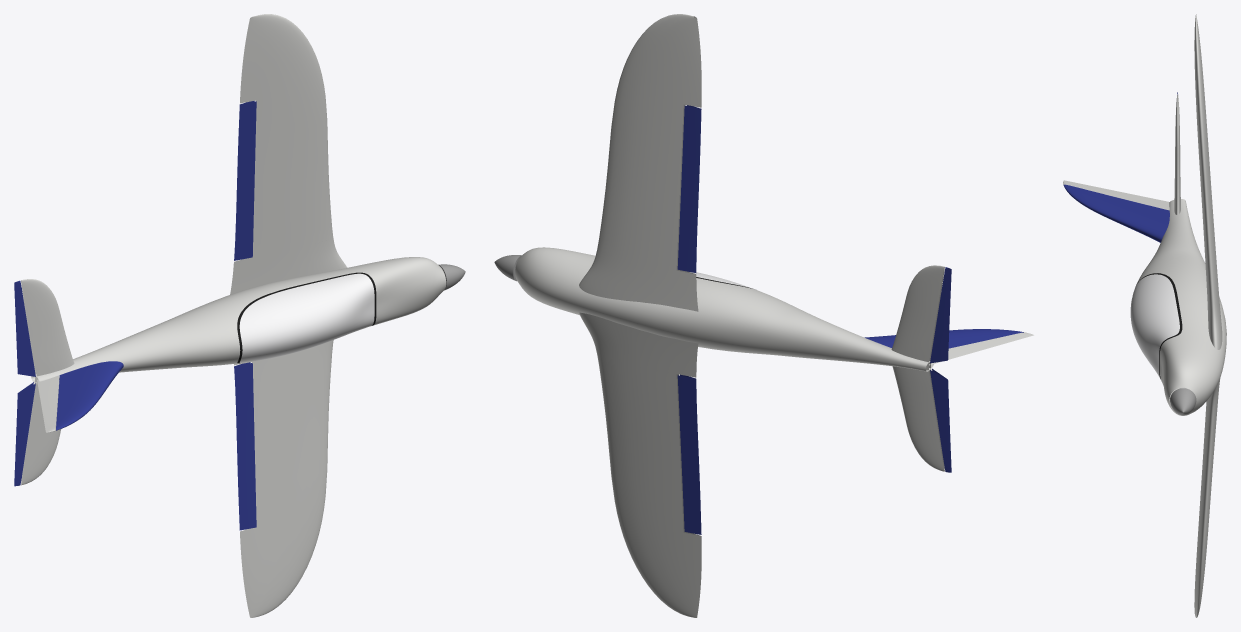
Rendered from Shark-Tail_Aircraft.obj.
The picture shows the model from 3 angles, left to right: view 1: azimuth 30°, elevation 25°; view 2: azimuth 150°, elevation 25°; view 3: azimuth 270°, elevation 25°; orthographic projection.
Parts seen in each view (by area): view 1: Body23, Body22, Body4, Body1, Body12, Body19, Body7, Body10, Body27, Body11, Body13, Body6; view 2: Body22, Body4, Body23, Body12, Body19, Body26, Body10, Body7, Body11, Body13, Body27, Body6; view 3: Body4, Body1, Body22, Body27, Body23, Body6, Body12, Body19, Body2, Body5.
Part boxes in pixels (x1,y1,x2,y2): Body23: (240,343,332,617); Body22: (240,14,333,257); Body4: (31,257,446,383); Body1: (239,273,374,362); Body12: (21,279,74,485); Body19: (230,237,347,294); Body7: (234,362,256,530); Body10: (234,101,256,260); Body27: (56,361,123,430); Body11: (14,382,35,486); Body13: (14,280,35,376); Body6: (37,375,59,432); Body22: (597,14,701,270); Body4: (515,247,933,371); Body23: (597,355,701,617); Body12: (891,265,944,471); Body19: (579,249,698,311); Body26: (579,312,698,377); Body10: (677,105,701,272); Body7: (677,374,701,534); Body11: (930,368,951,472); Body13: (930,267,951,363); Body27: (864,329,1023,348); Body6: (929,332,1033,365); Body4: (1137,199,1226,415); Body1: (1130,274,1179,379); Body22: (1194,14,1218,302); Body27: (1063,184,1169,242); Body23: (1194,400,1217,617); Body6: (1063,180,1169,210); Body12: (1174,94,1180,214); Body19: (1207,287,1222,349); Body2: (1170,388,1196,415); Body5: (1136,273,1182,378).
Bounding box in the file's own units: 99.73 × 119 × 29.72.
